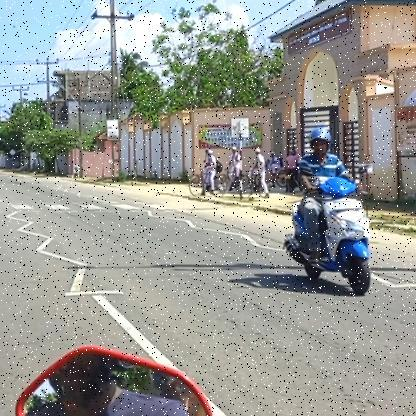motorcycle: (280, 174, 376, 298)
